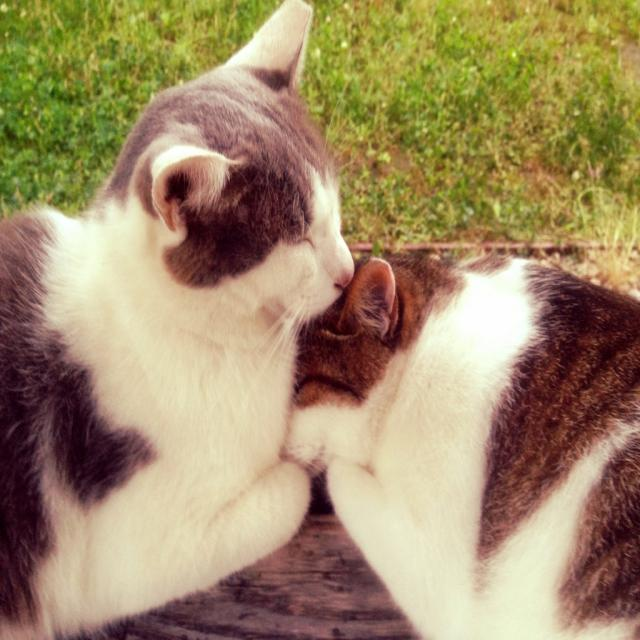Cat: (0, 0, 352, 638), (281, 247, 638, 638)
